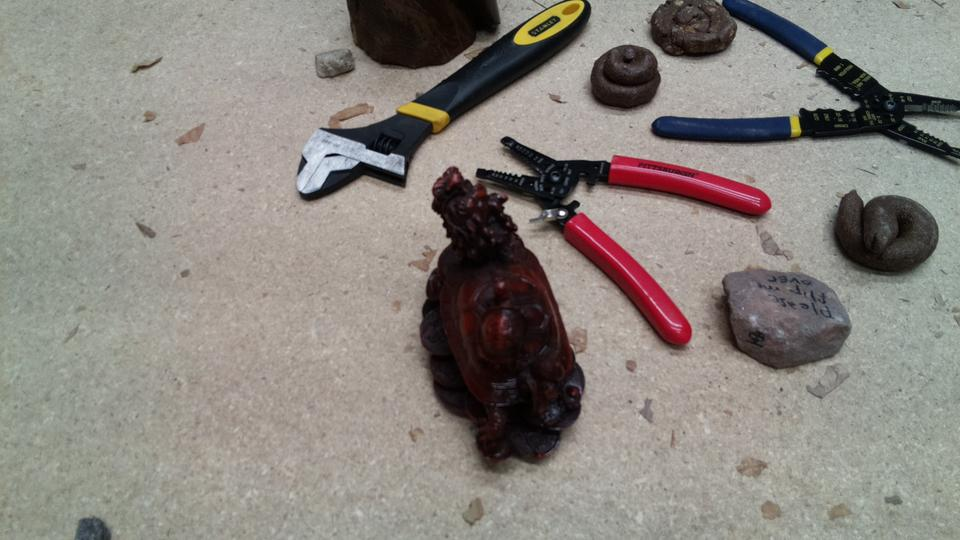poop: (831, 186, 942, 274), (587, 42, 661, 115), (649, 1, 739, 59)
